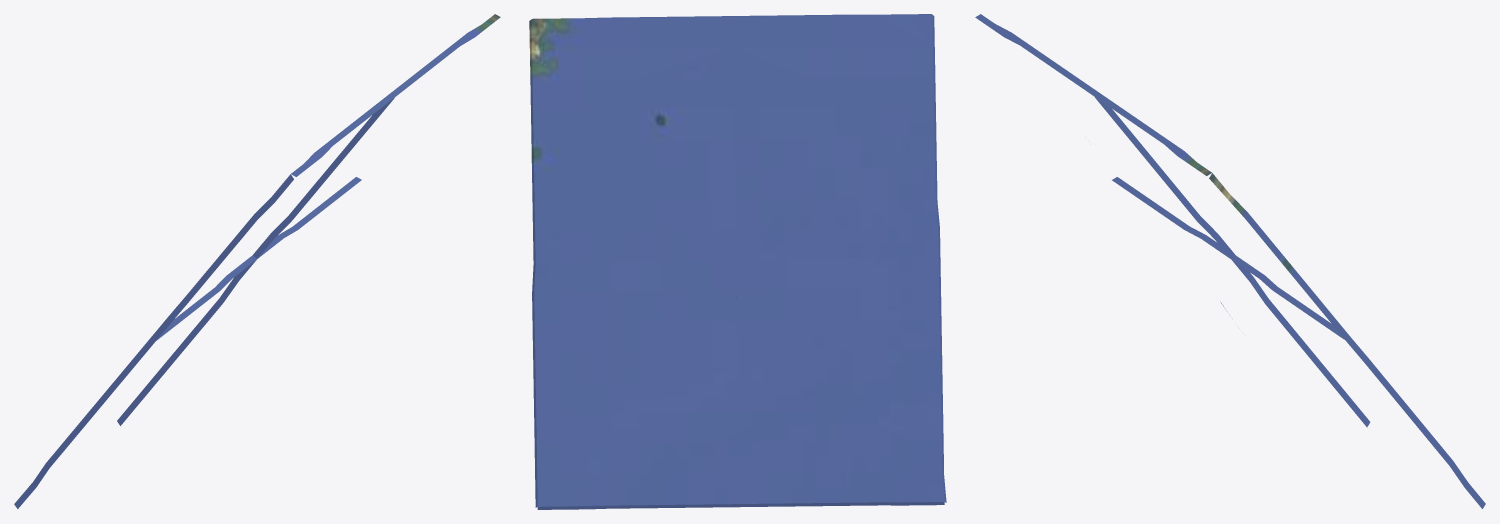
3 renders of one model, left to right at view 1: azimuth 30°, elevation 25°; view 2: azimuth 150°, elevation 25°; view 3: azimuth 270°, elevation 25°, orthographic. The views are drawn at different scales.
Bounding box in the file's own units: 158593 × 129124 × 146721.
Materials: 1 (1 with a texture image).
